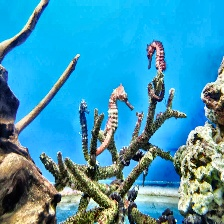seahorse: (0, 33, 63, 224)
